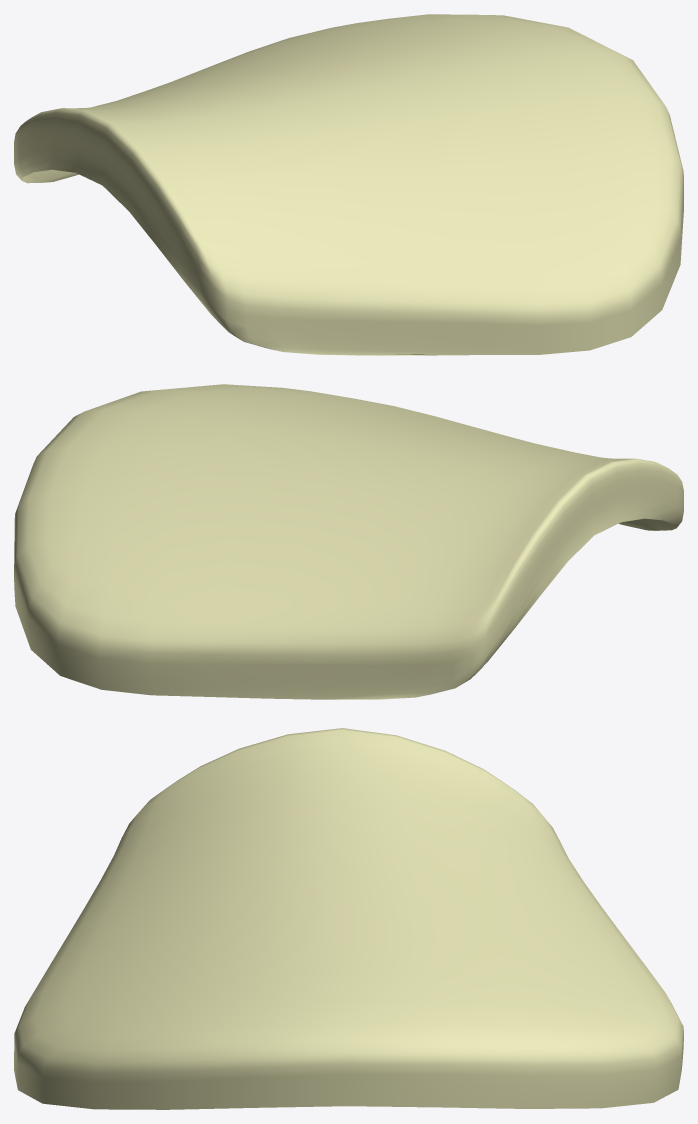
File: tume3_v1.fbx
3 views of the same model, one above another, from view 1: azimuth 30°, elevation 25°; view 2: azimuth 150°, elevation 25°; view 3: azimuth 270°, elevation 25° (orthographic). The views are drawn at different scales.
Parts seen in each view (by area): view 1: hand01:pCube6; view 2: hand01:pCube6; view 3: hand01:pCube6.
Part boxes in pixels (x1,y1,x2,y2): hand01:pCube6: (14, 14, 683, 355); hand01:pCube6: (14, 384, 683, 699); hand01:pCube6: (14, 728, 683, 1109).
Size of the model in its own units: 0.6424 by 0.211 by 0.6893.
